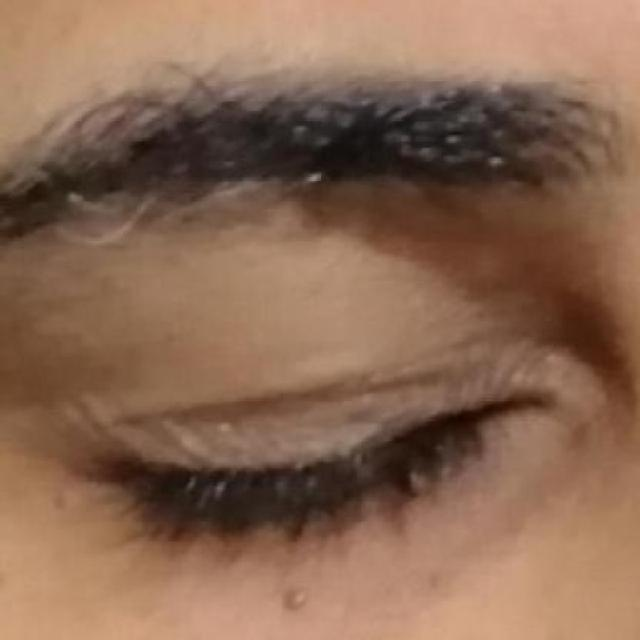drowsy: (73, 360, 558, 625)
